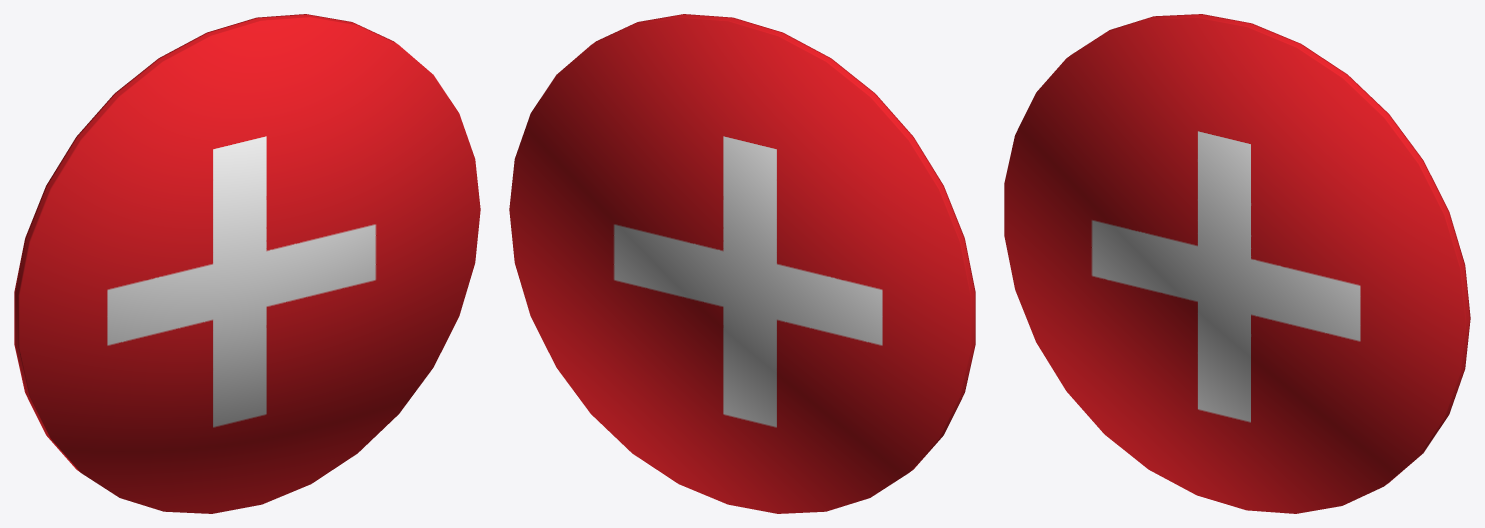
Rendered from health.obj.
3 renders of one model, left to right at view 1: azimuth 30°, elevation 25°; view 2: azimuth 150°, elevation 25°; view 3: azimuth 330°, elevation 25°, orthographic.
Parts seen in each view (by area): view 1: Cylinder001; view 2: Cylinder001; view 3: Cylinder001.
Part boxes in pixels (<box>): Cylinder001: <box>14,14,480,513</box>; Cylinder001: <box>509,14,975,513</box>; Cylinder001: <box>1004,14,1470,513</box>.
Size of the model in its own units: 39.25 by 39.31 by 0.7874.
